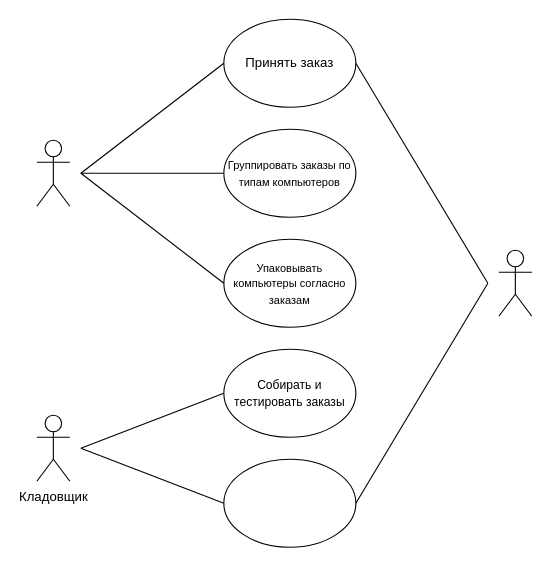
Image size: 557x567. Some labels were removed from this diagram. The box of each missing label's shape, as (x1, y1, x2, y2) in pixels:
Клиент: (498, 249, 532, 316)
Отгрузить заказ: (223, 458, 356, 547)
Сотрудник: (36, 139, 70, 206)
